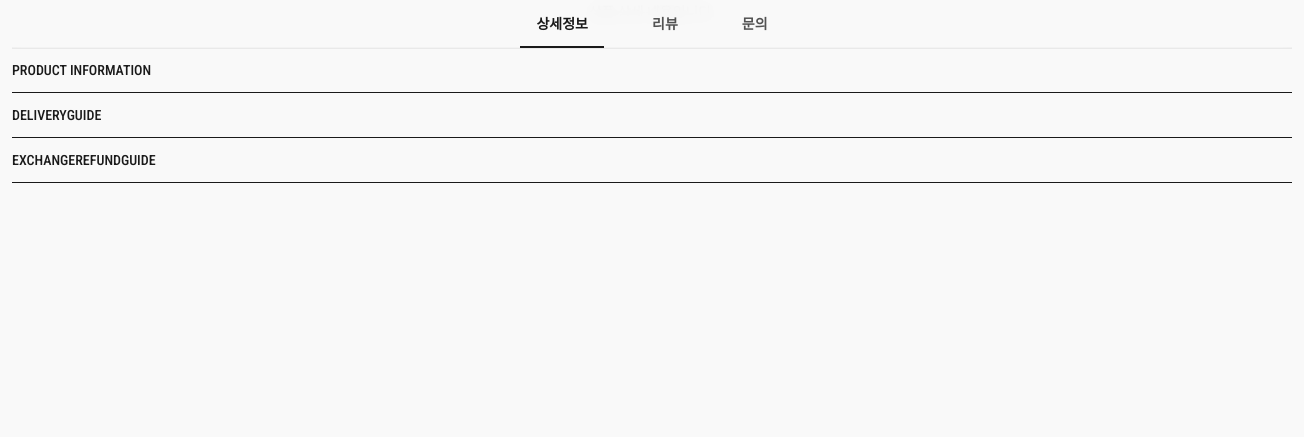
Test: ProductTabs › keeps product notice info collapsed by default and expands on click
Expected: the text "침출차" is not shown
Click the button "PRODUCT INFORMATION": {"x": 82, "y": 70} [12,48,1292,92]
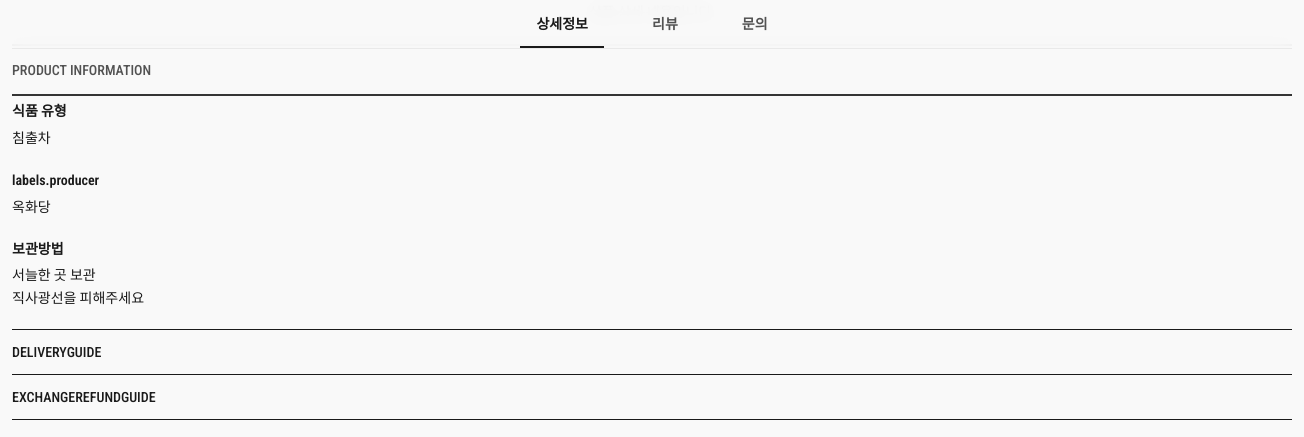
Result: the text "식품 유형" is shown at [12,103,67,119]
Result: the text "침출차" is shown at [12,130,51,146]
Result: the text "보관방법" is shown at [12,241,64,257]
